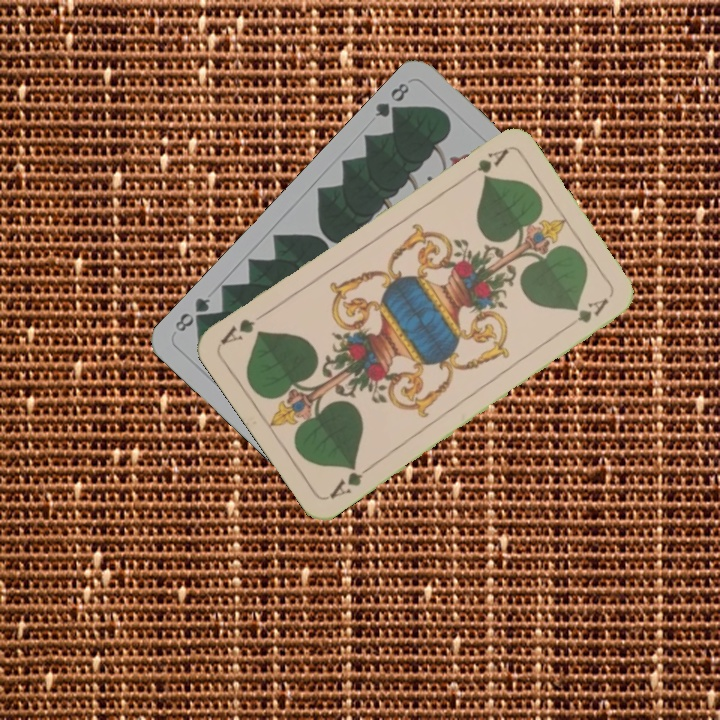G8: (371, 78, 412, 124)
GA: (457, 144, 511, 184), (325, 460, 376, 502)
